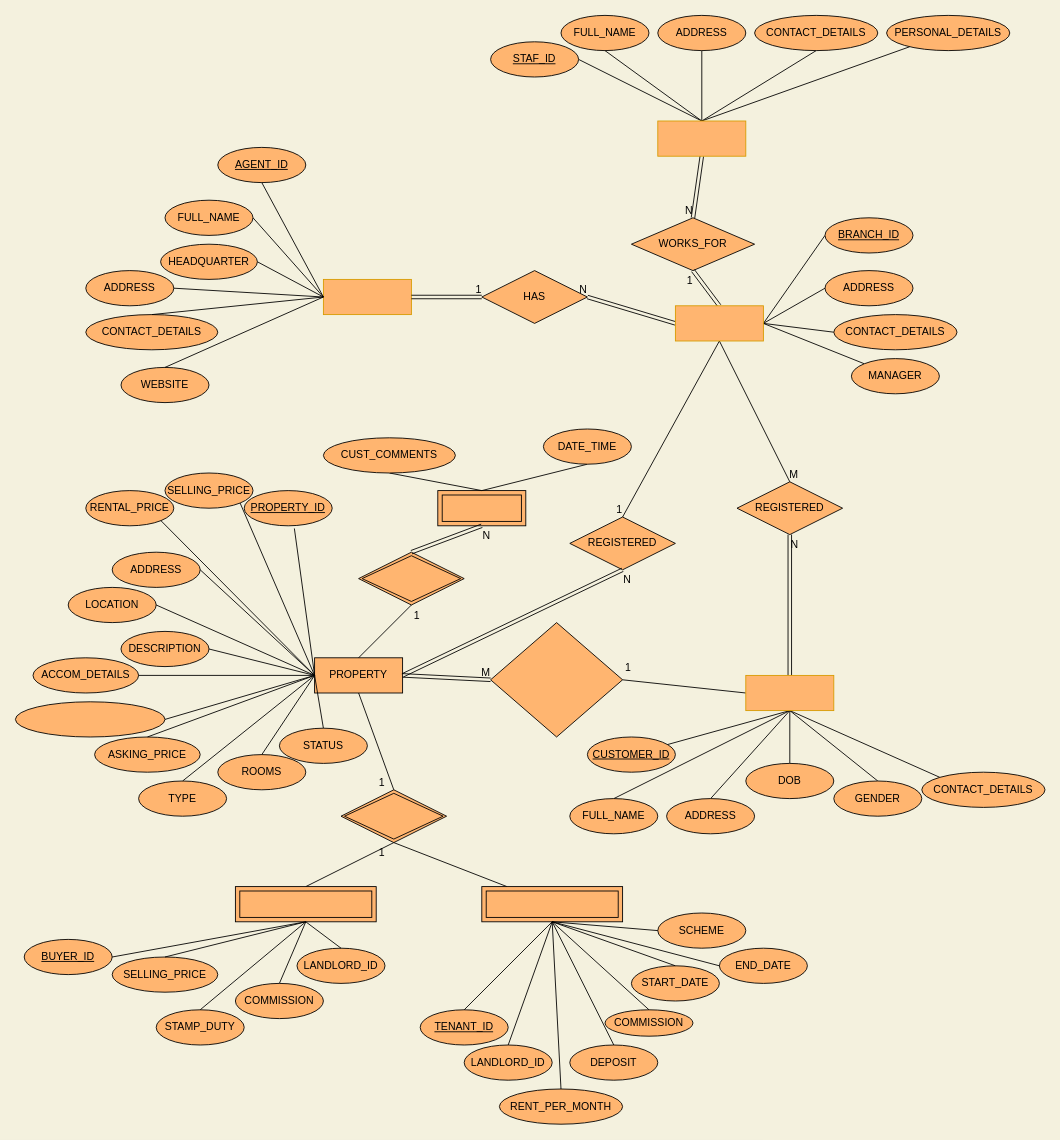
Image size: 1060x1140. Some labels were removed from this diagram. Here are the shapes that lost their labels. From the top down, the centre of each, then its label:
point (701, 138): STAFF
point (367, 297): AGENT
point (719, 323): BRANCH
point (481, 508): VIEWINGS
point (411, 578): CAN_HAVE
point (556, 679): HAS AN I NTENTION ABOUT PROPERTY
point (789, 693): CUSTOMER
point (90, 719): REGISTRATION_DATE
point (393, 816): IS
point (305, 904): PROPERTY_SOLD
point (552, 904): PROPERTY_RENTED
